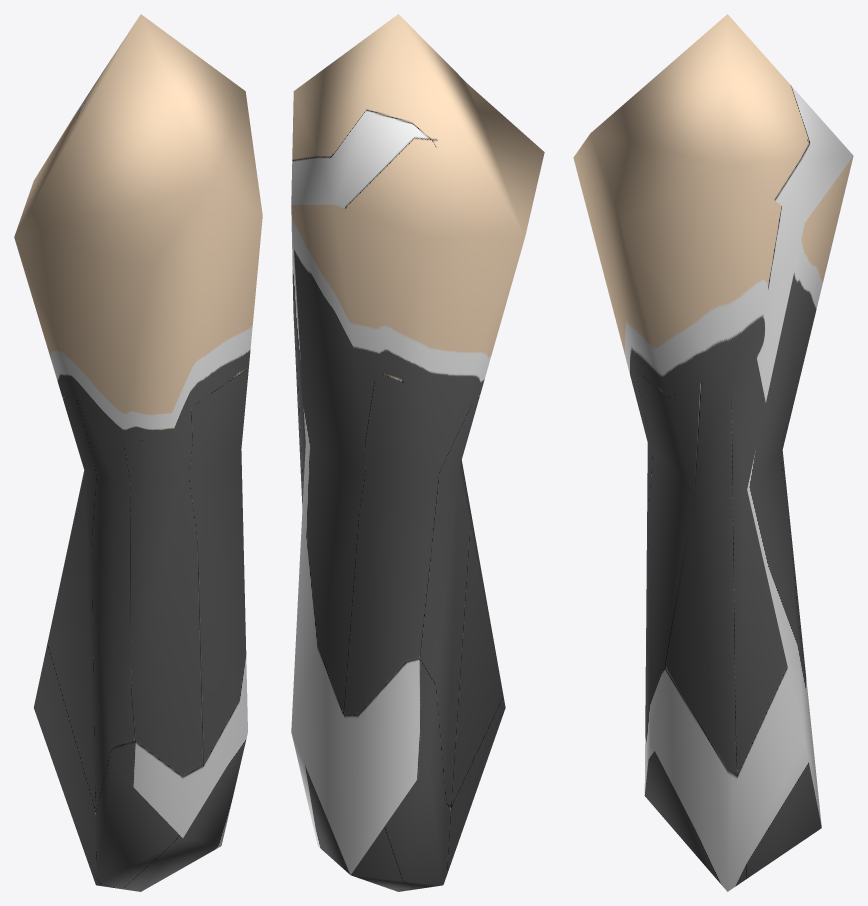
File: TtianglePlayerRightLeg.obj
The picture shows the model from 3 angles, left to right: view 1: azimuth 30°, elevation 25°; view 2: azimuth 150°, elevation 25°; view 3: azimuth 270°, elevation 25°; orthographic projection.
Visible parts, largest first — view 1: 右足; view 2: 右足; view 3: 右足.
Boxes of the visible parts, x1,y1,x2,y2 form: 右足: (14,14,262,891); 右足: (291,14,544,891); 右足: (573,14,853,891).
Bounding box in the file's own units: 0.29 × 1.05 × 0.3082.
Materials: 1 (1 with a texture image).
